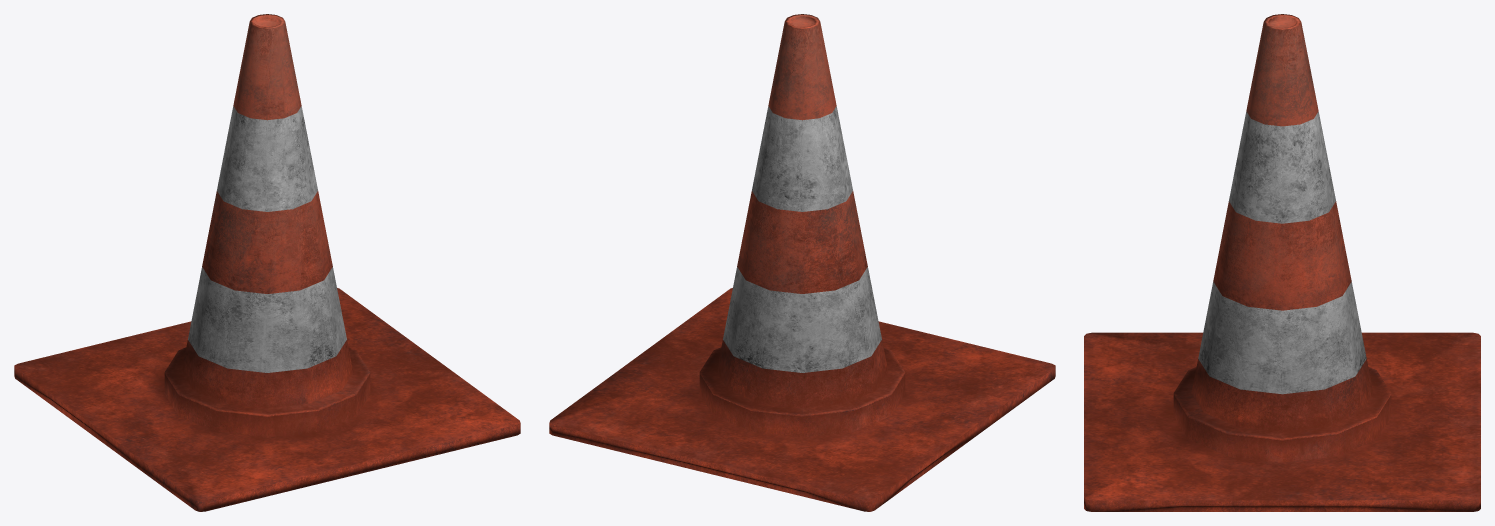
The model's file is Traffic Cone  Low-Poly 3D Model.glb.
The picture shows the model from 3 angles, left to right: view 1: azimuth 30°, elevation 25°; view 2: azimuth 150°, elevation 25°; view 3: azimuth 270°, elevation 25°; orthographic projection. The views are drawn at different scales.
Parts seen in each view (by area): view 1: streetcone_low; view 2: streetcone_low; view 3: streetcone_low.
Part boxes in pixels (x1,y1,x2,y2): streetcone_low: [14, 14, 520, 511]; streetcone_low: [549, 14, 1055, 511]; streetcone_low: [1084, 14, 1480, 511].
Bounding box in the file's own units: 0.6535 × 0.7382 × 0.6535.
Materials: 1 (1 with a texture image).
